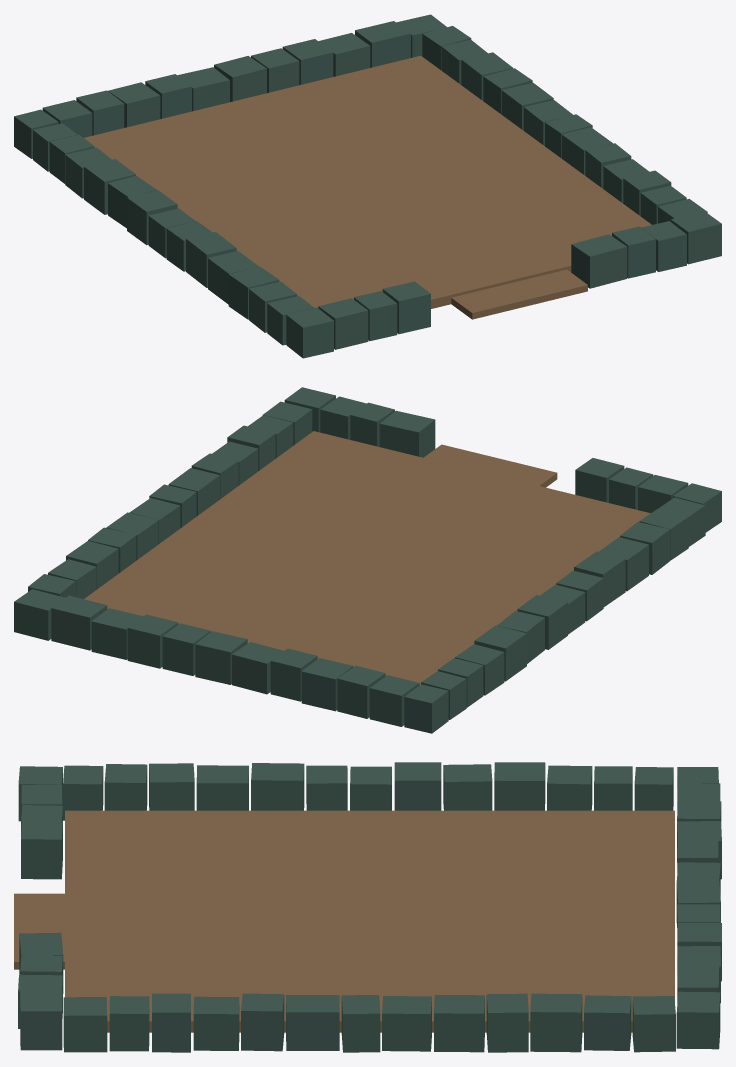
File: foundation.glb
The picture shows the model from 3 angles, top to bottom: view 1: azimuth 30°, elevation 25°; view 2: azimuth 150°, elevation 25°; view 3: azimuth 270°, elevation 25°; orthographic projection. The views are drawn at different scales.
Parts seen in each view (by area): view 1: floor, stone_footing; view 2: floor, stone_footing; view 3: floor, stone_footing.
Part boxes in pixels (<box>): floor: <box>84,55,651,319</box>; stone_footing: <box>14,14,721,358</box>; floor: <box>84,431,650,684</box>; stone_footing: <box>14,387,721,733</box>; floor: <box>14,810,674,1032</box>; stone_footing: <box>18,762,721,1052</box>.
Bounding box in the file's own units: 4.79 × 0.3593 × 5.71.
